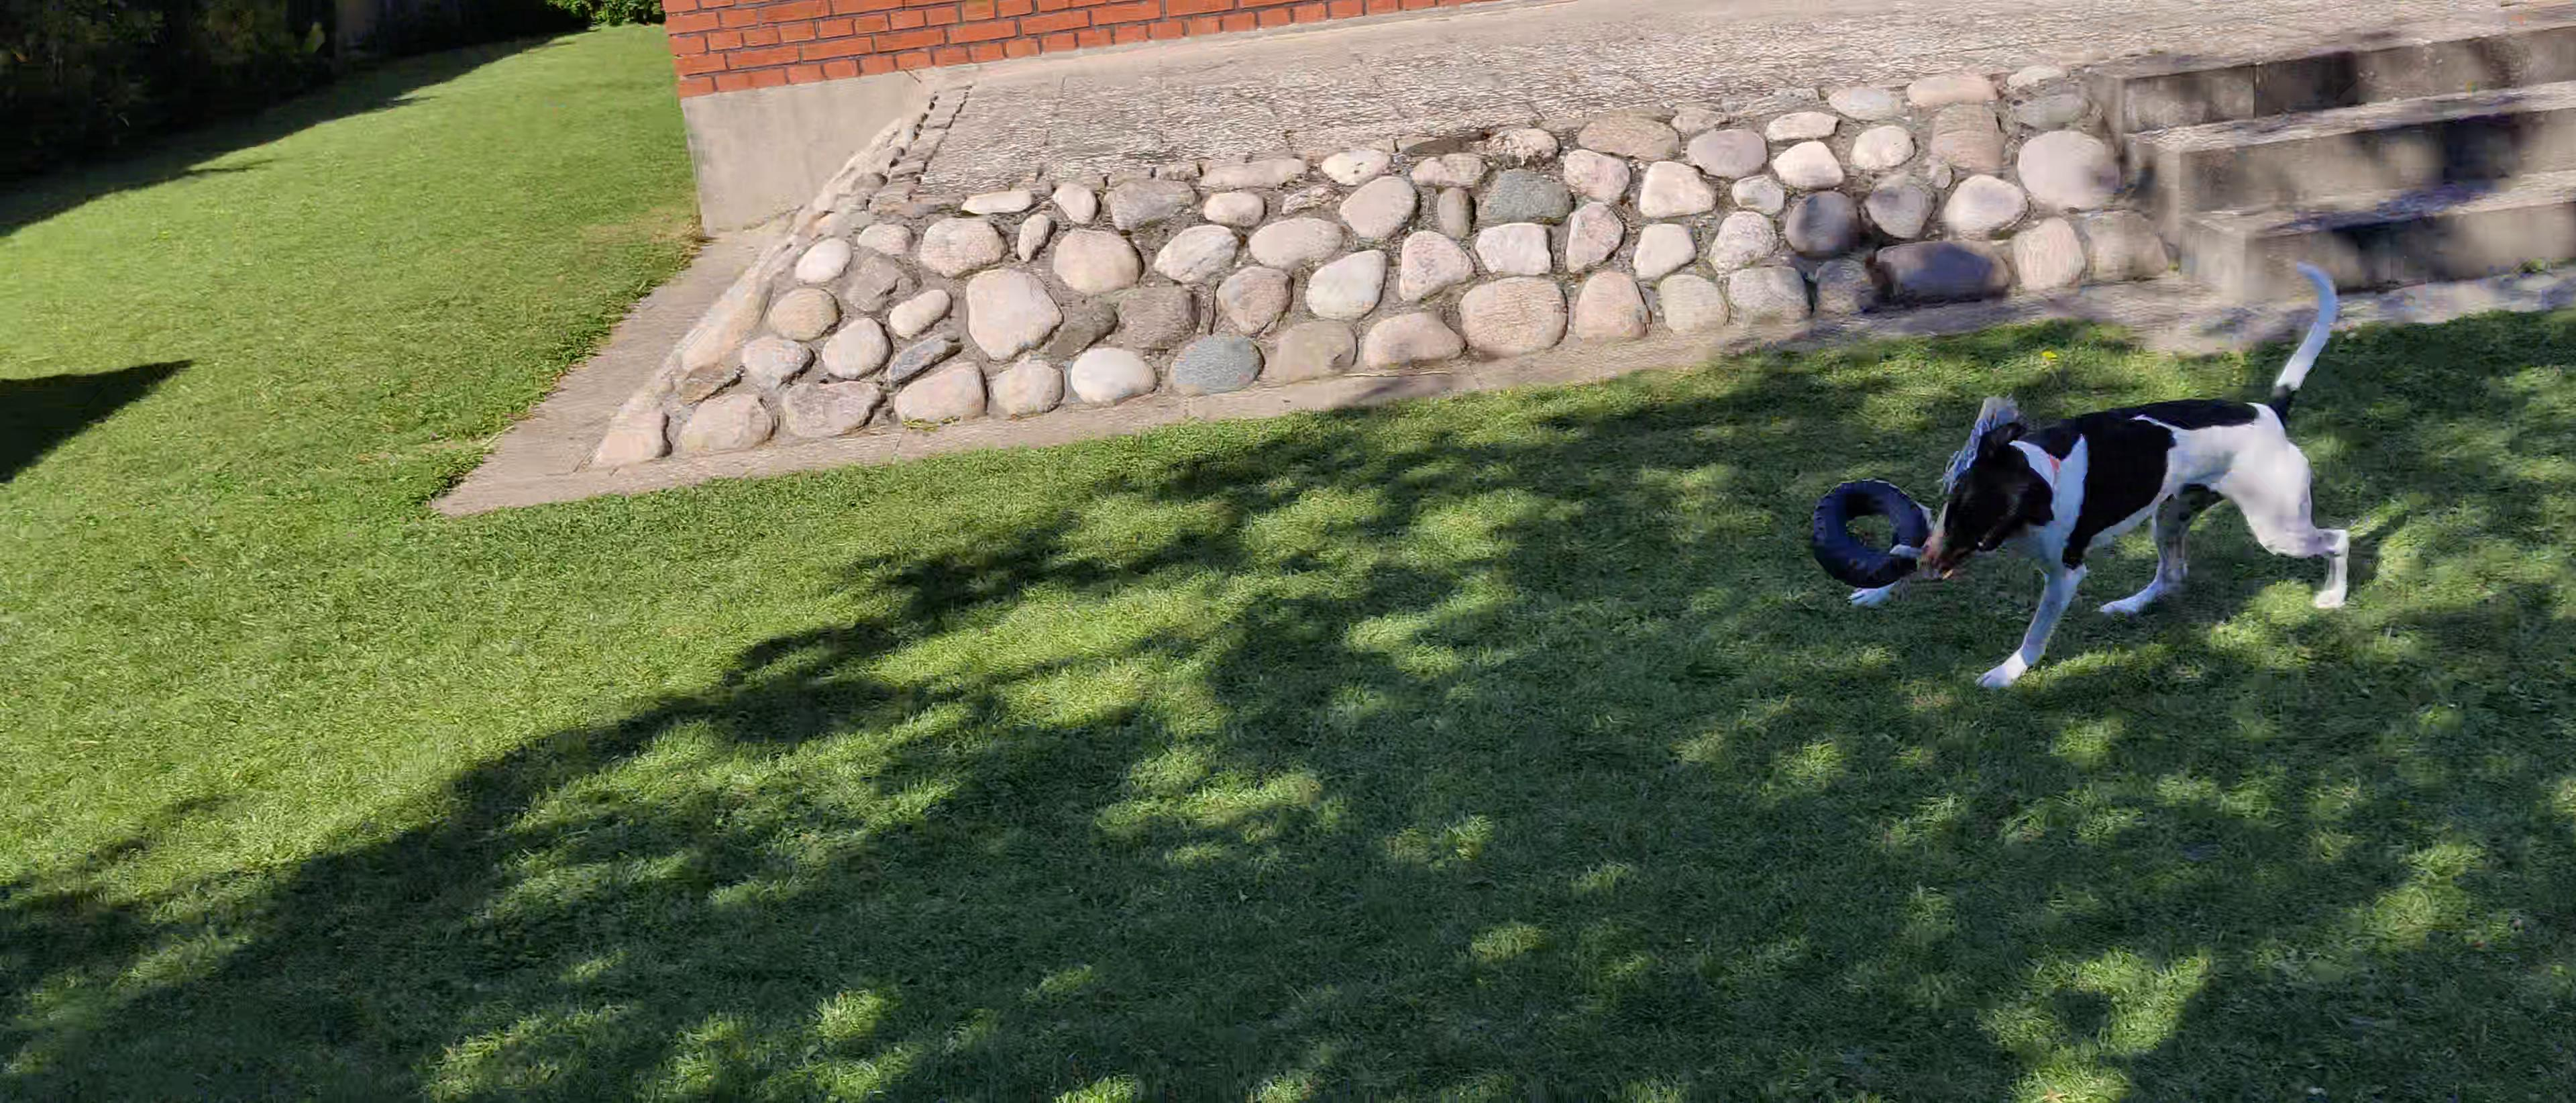Dog: (1845, 260, 2353, 694)
